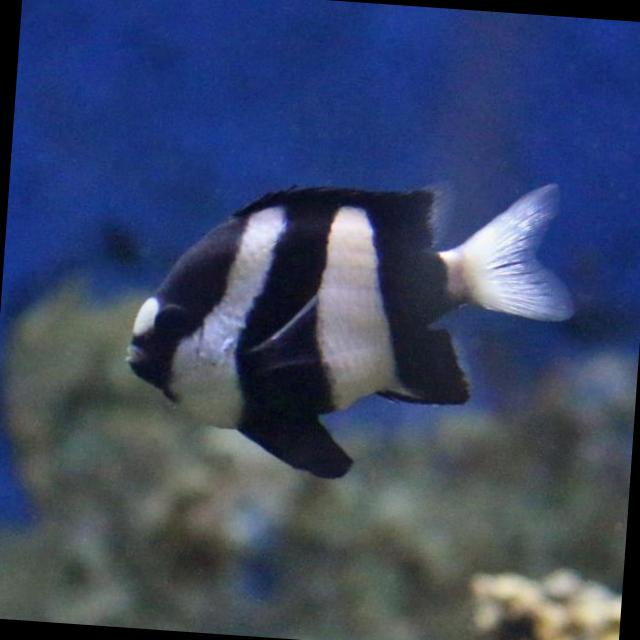Three_striped DasmselFish: (112, 152, 574, 491)
